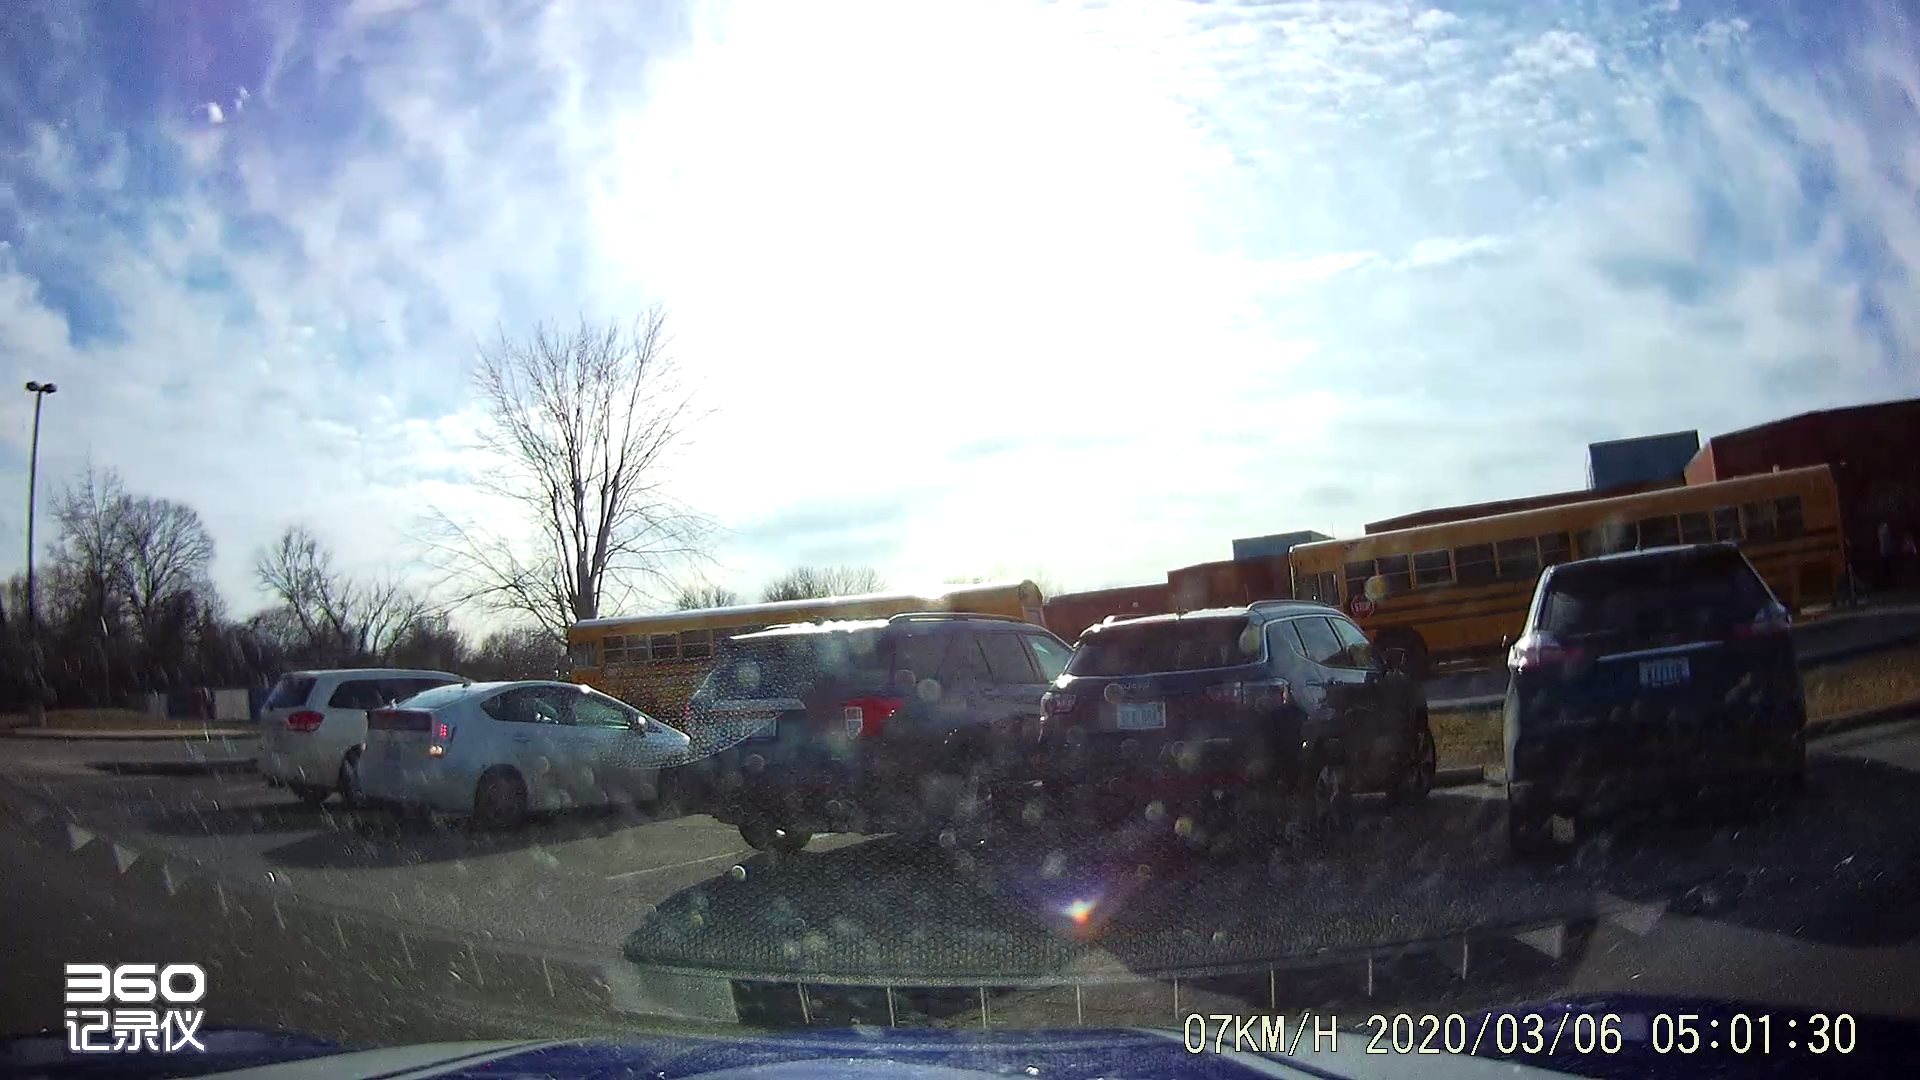License Plate: (1641, 660, 1690, 687), (728, 717, 774, 746), (1113, 703, 1164, 728)
